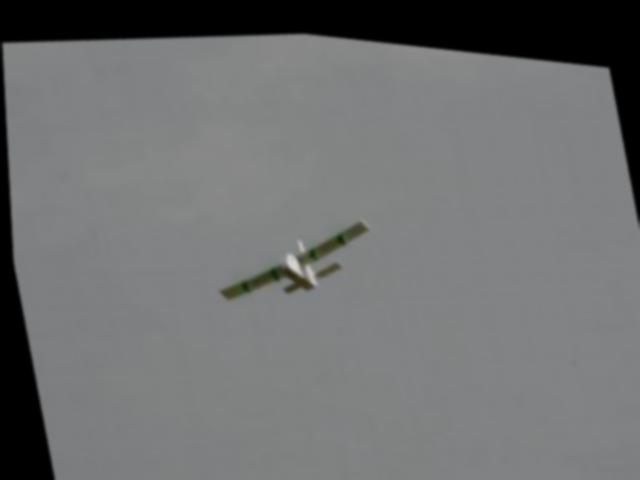uav: (202, 193, 382, 315)
